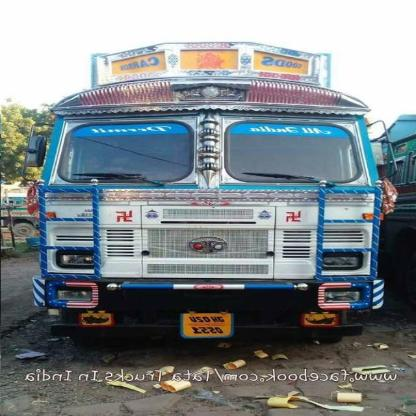truck: (31, 38, 389, 338)
